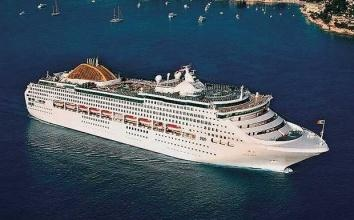youlun: (20, 56, 330, 176)
